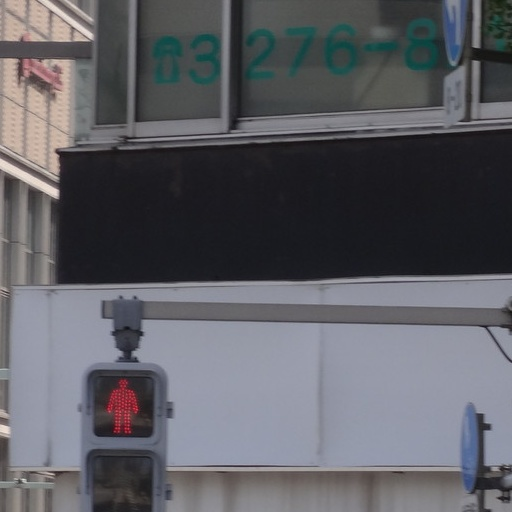Pedestrian_Signal_Red: (75, 357, 168, 503)
